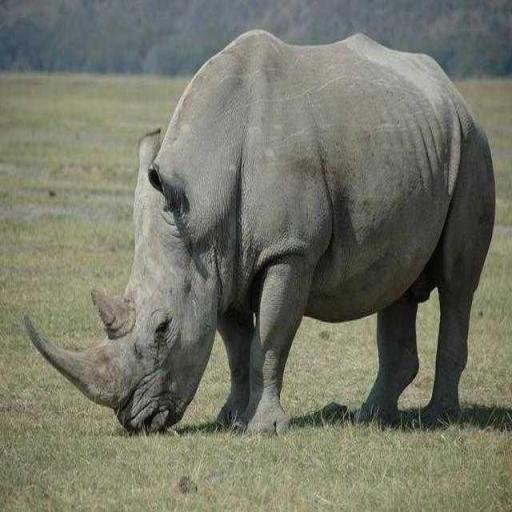Rhino: (23, 26, 496, 438)
